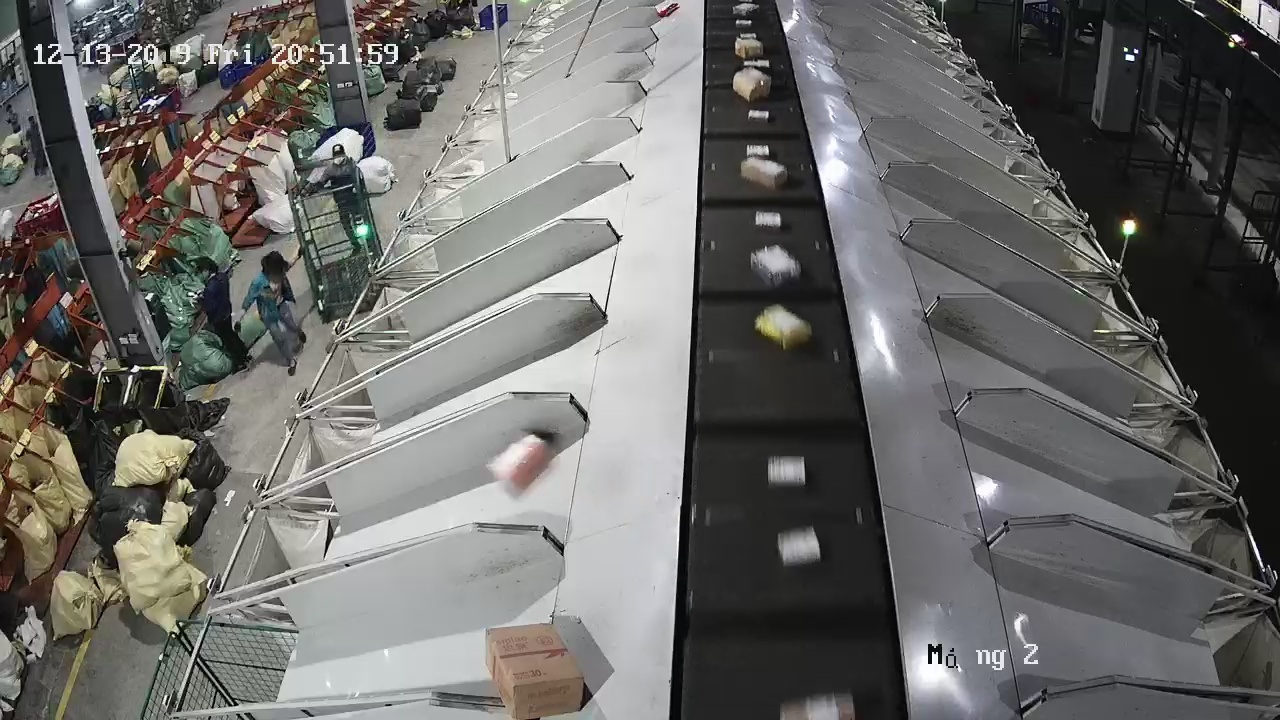parcel: (485, 432, 552, 491)
